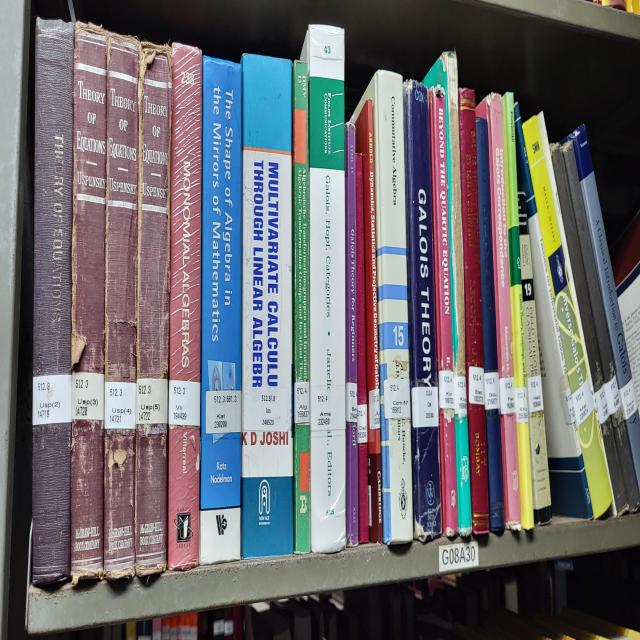Book: (522, 116, 611, 517), (515, 103, 592, 517), (352, 70, 414, 544), (561, 141, 640, 511), (552, 146, 629, 514), (570, 124, 640, 492), (241, 54, 292, 557), (300, 24, 346, 552), (32, 19, 74, 584), (424, 51, 471, 536), (71, 22, 109, 584), (200, 57, 241, 563), (135, 41, 172, 576), (476, 95, 521, 530), (104, 32, 139, 579), (169, 43, 202, 568), (404, 81, 441, 541), (501, 92, 534, 530), (459, 89, 489, 536), (429, 87, 458, 536), (476, 116, 505, 530), (356, 100, 382, 544), (518, 189, 551, 522), (292, 62, 310, 552), (345, 122, 359, 547), (356, 154, 369, 544)
Label: (242, 387, 289, 433), (32, 373, 71, 425), (71, 373, 105, 422), (310, 384, 345, 430), (104, 381, 136, 430), (205, 390, 241, 433), (169, 379, 200, 427), (136, 379, 168, 425), (411, 387, 439, 427), (384, 379, 410, 419), (572, 379, 594, 425), (620, 379, 638, 419), (294, 381, 310, 425), (469, 365, 485, 406), (594, 384, 610, 425), (604, 376, 621, 414), (484, 371, 500, 411), (499, 376, 515, 414), (528, 376, 544, 414), (454, 376, 468, 417), (439, 371, 454, 409), (560, 390, 576, 425), (346, 381, 358, 422), (515, 387, 529, 422), (369, 390, 380, 430), (358, 403, 368, 444)
